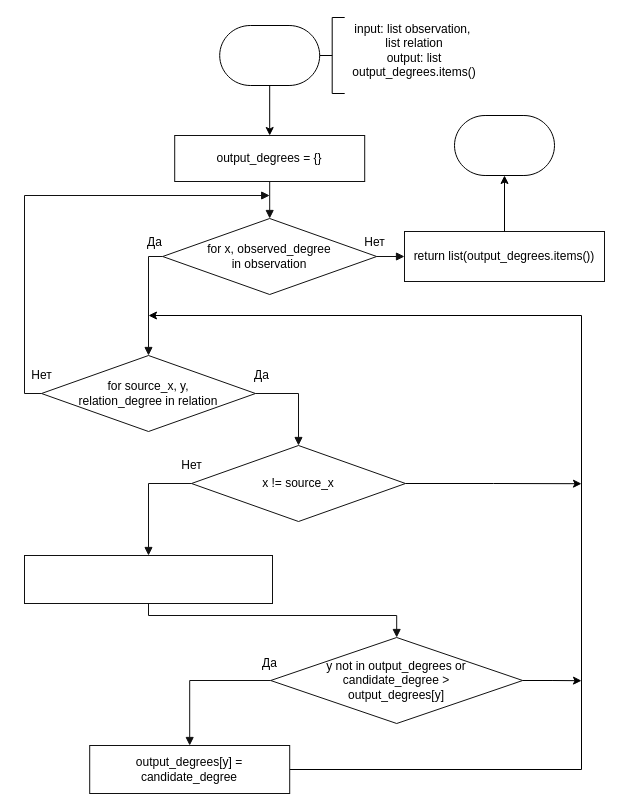
This 622x811 diagram has some shape labels left out. The box of each missing label's shape, as (x1, y1, x2, y2) in pixels:
candidate_degree = min( observed_degree, relation_degree): (24, 554, 272, 604)
Конец: (454, 114, 554, 176)
Начало: (219, 24, 320, 86)
